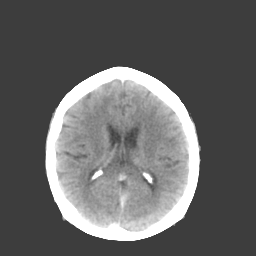ischemic: (141, 120, 187, 180)
